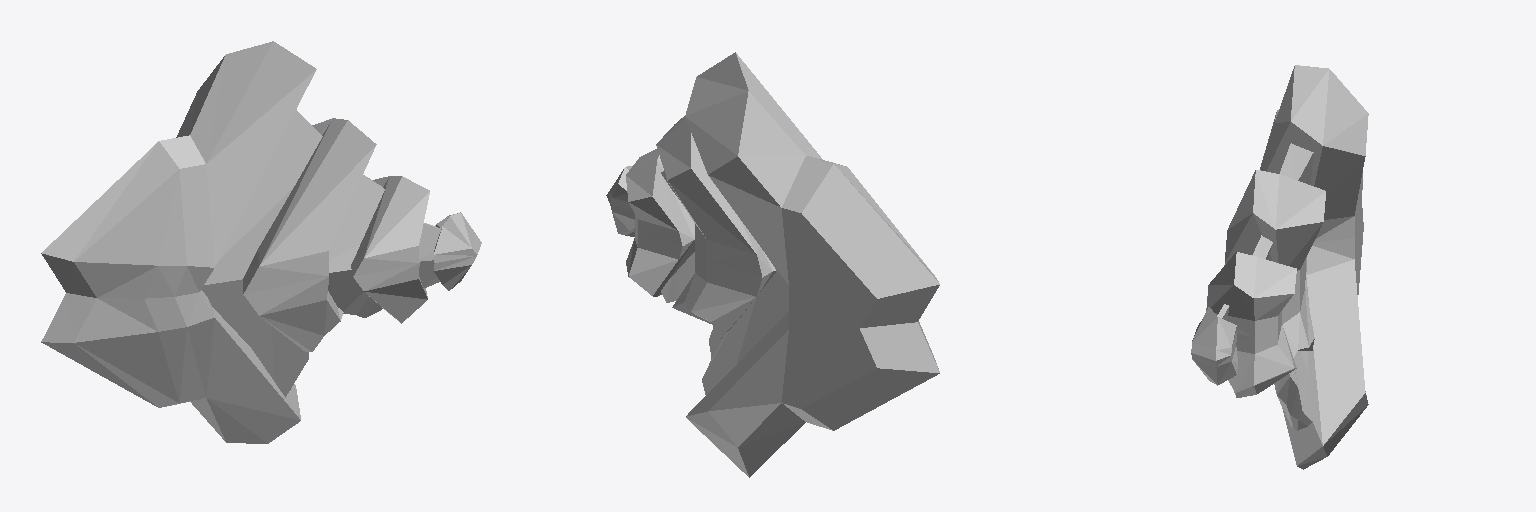
The model's file is fortress.obj.
3 renders of one model, left to right at view 1: azimuth 30°, elevation 25°; view 2: azimuth 150°, elevation 25°; view 3: azimuth 270°, elevation 25°, orthographic.
Visible parts, largest first — view 1: model_12; view 2: model_12; view 3: model_12.
Part boxes in pixels (x1,y1,x2,y2): model_12: (41, 41, 481, 443); model_12: (606, 52, 939, 477); model_12: (1191, 65, 1368, 469).
Bounding box in the file's own units: 30.42 × 30.5 × 12.06.